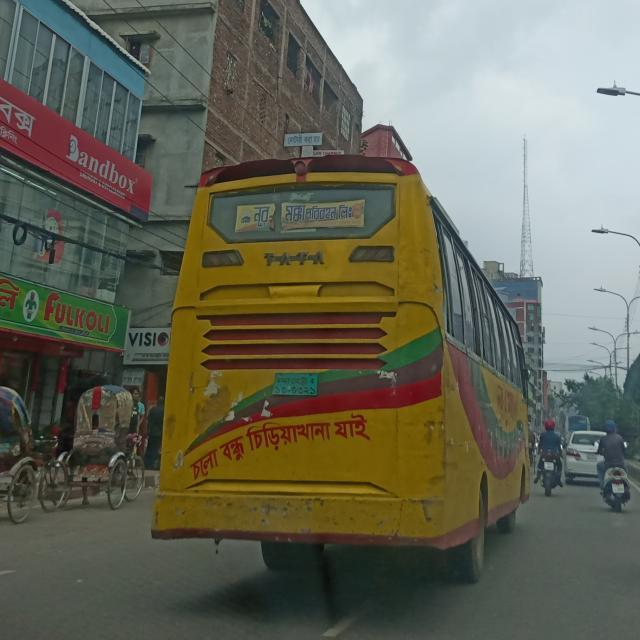Bus: (149, 125, 537, 576)
Motorbike: (596, 451, 640, 520), (536, 449, 576, 497)
Rickshaw: (52, 366, 145, 510)
